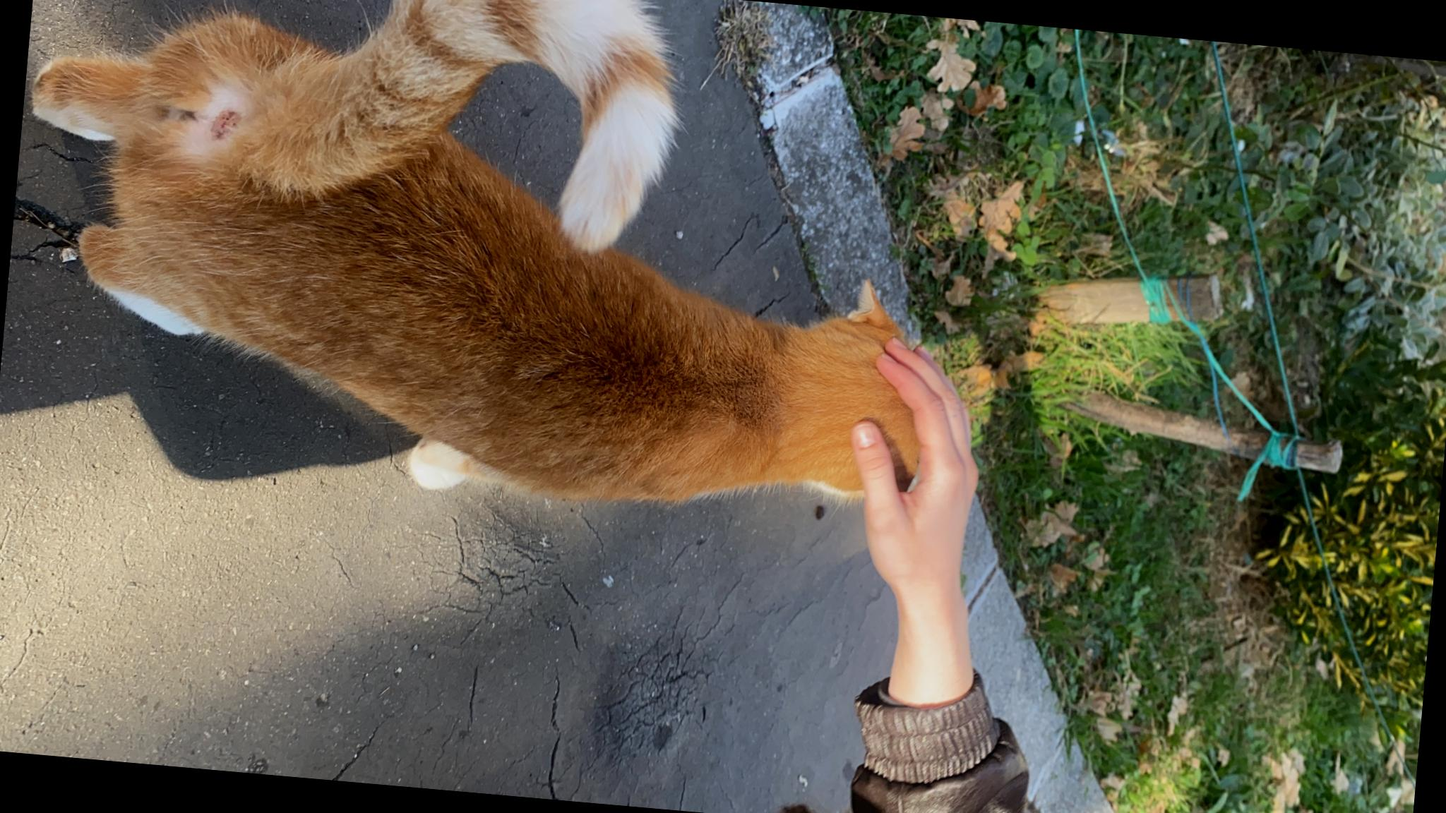macka: (940, 20, 1446, 353)
